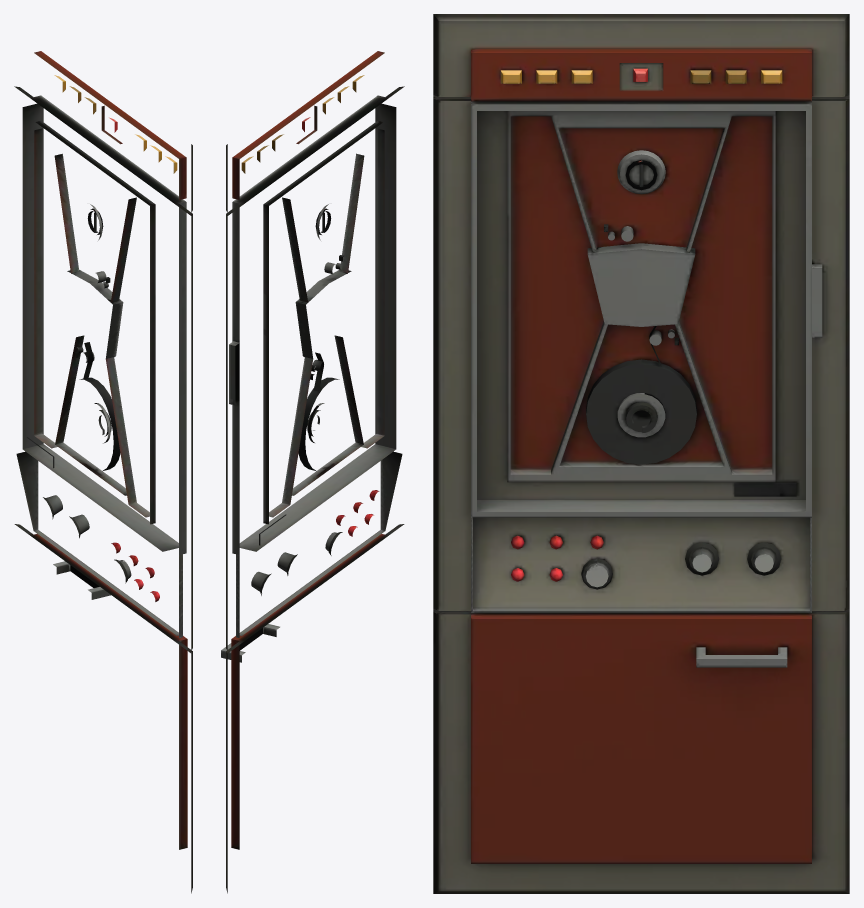
3 renders of one model, left to right at view 1: azimuth 30°, elevation 25°; view 2: azimuth 150°, elevation 25°; view 3: azimuth 270°, elevation 25°, orthographic. The views are drawn at different scales.
Parts seen in each view (by area): view 1: body0_model0_lod0_mesh0; view 2: body0_model0_lod0_mesh0; view 3: body0_model0_lod0_mesh0.
Boxes of the visible parts, x1=… form: body0_model0_lod0_mesh0: x1=14, y1=51, x2=192, y2=893; body0_model0_lod0_mesh0: x1=221, y1=51, x2=404, y2=893; body0_model0_lod0_mesh0: x1=433, y1=14, x2=849, y2=893.
Bounding box in the file's own units: 7.41 × 112 × 47.99.
Materials: 1 (1 with a texture image).
